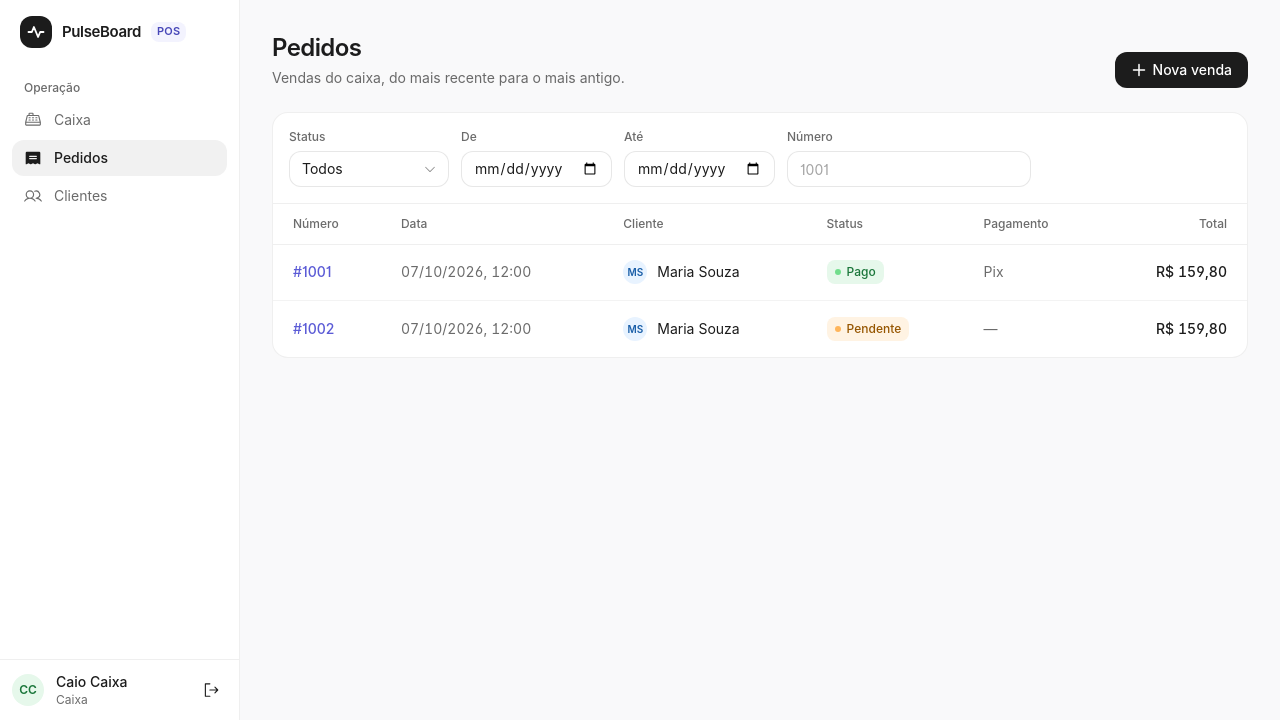
Test case: orders › lists orders and filters by status through the URL
Expected: the link "#1001" is shown, [293, 263, 331, 280]
Expected: the link "#1002" is shown, [293, 320, 334, 337]
Select "Pendente" in the dropdown labelled "Status": {"x": 369, "y": 169} [289, 151, 449, 187]
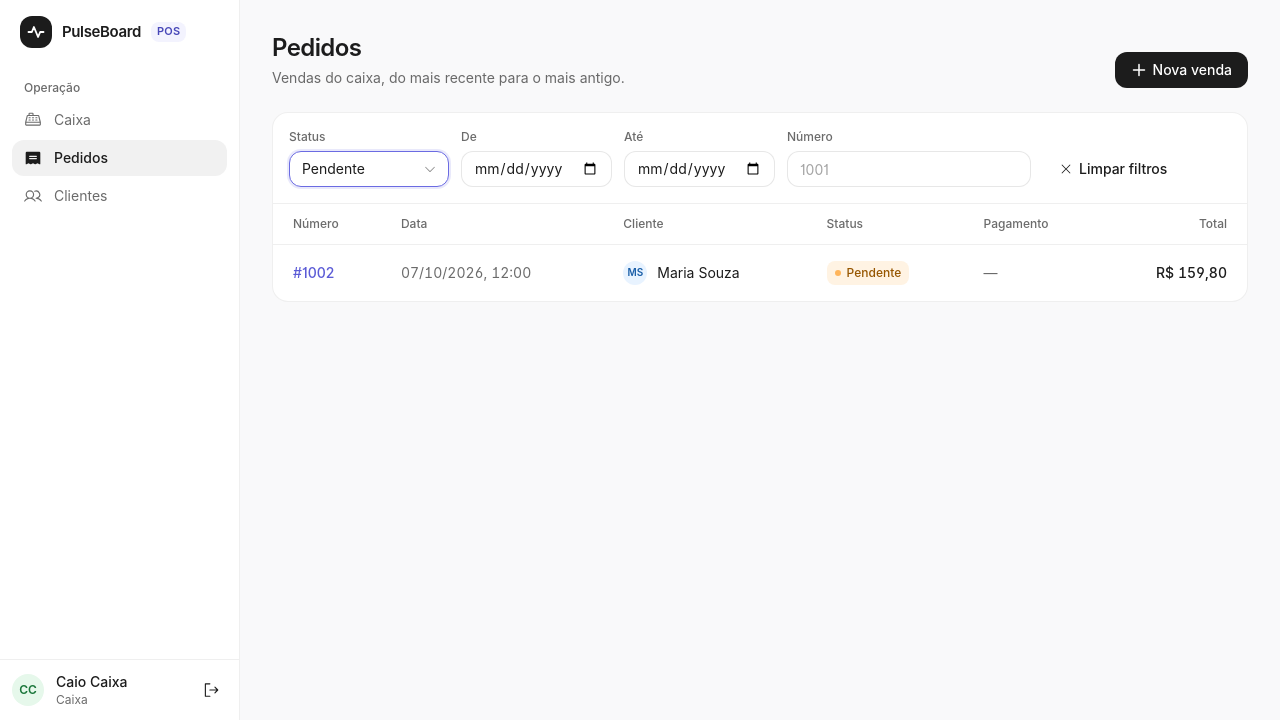
Expected: the link "#1002" is shown, [293, 264, 334, 280]
Expected: the link "#1001" is gone
